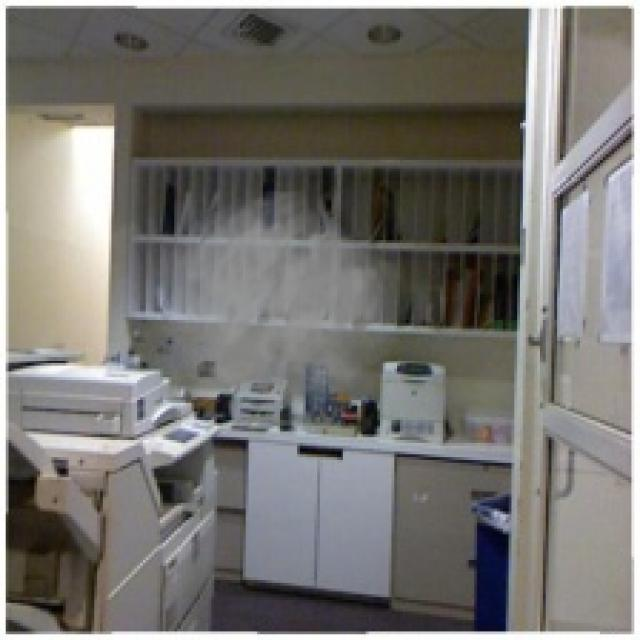smoke: (160, 188, 406, 432)
